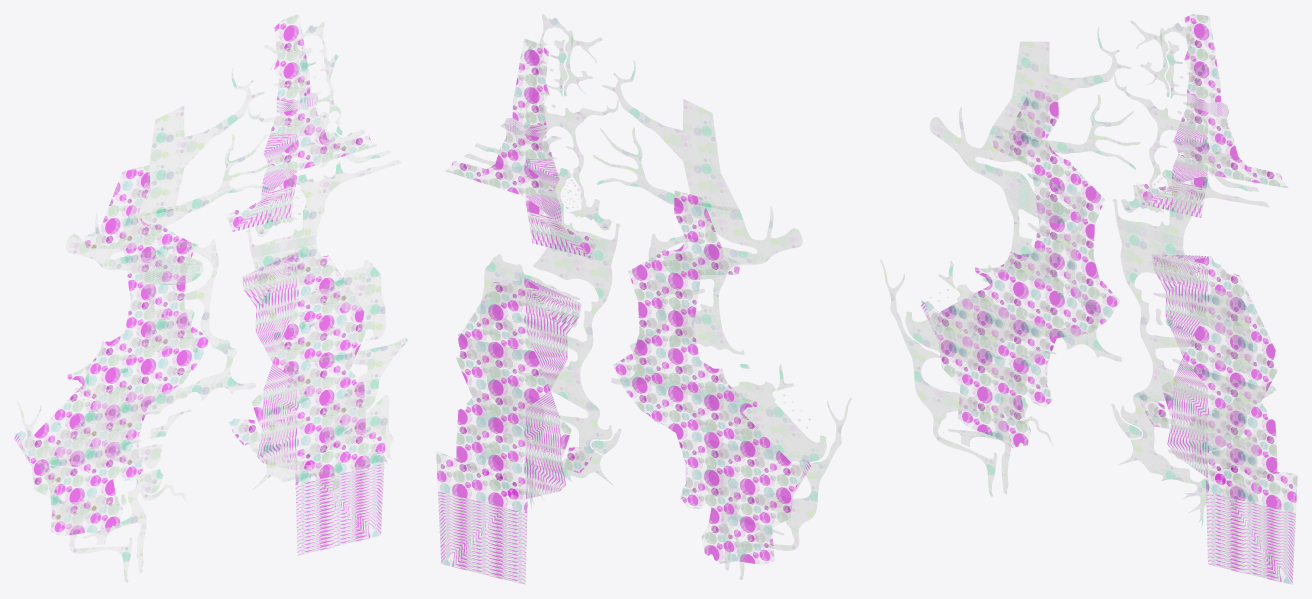
The model's file is bigtree03.glb.
The picture shows the model from 3 angles, left to right: view 1: azimuth 30°, elevation 25°; view 2: azimuth 150°, elevation 25°; view 3: azimuth 330°, elevation 25°; orthographic projection.
Visible parts, largest first — view 1: bigtree03; view 2: bigtree03; view 3: bigtree03.
Part boxes in pixels (x1,y1,x2,y2): bigtree03: [14, 14, 407, 582]; bigtree03: [436, 14, 851, 584]; bigtree03: [880, 14, 1297, 584].
Bounding box in the file's own units: 2191 × 2944 × 210.
Materials: 3 (3 with a texture image).
